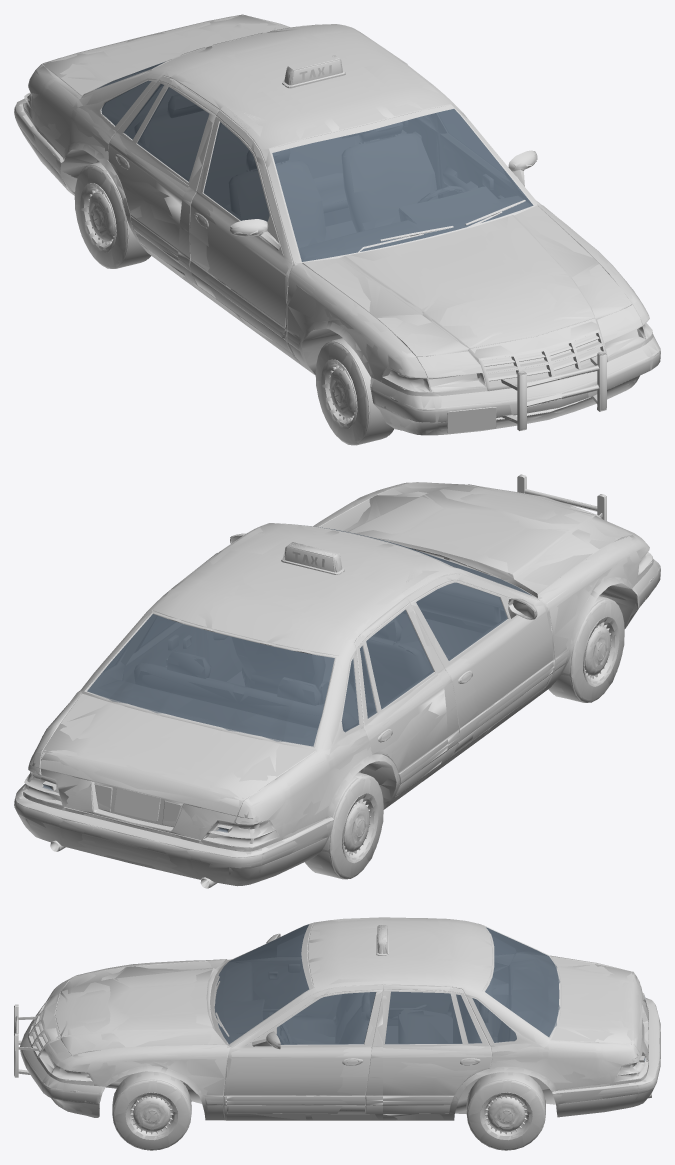
Rendered from taxi.fbx.
3 renders of one model, top to bottom at view 1: azimuth 30°, elevation 25°; view 2: azimuth 150°, elevation 25°; view 3: azimuth 270°, elevation 25°, orthographic. The views are drawn at different scales.
Parts seen in each view (by area): view 1: Body, LOD1_Body, LOD2_Body, Door_FR, LOD2_Door_FR, LOD1_Door_FR, Door_FL, Wheel_FR, LOD1_Door_FL, Wheel_RR, LOD1_Wheel_FR, LOD1_Wheel_RR (+3 smaller); view 2: Body, LOD2_Body, LOD1_Body, Door_FR, LOD2_Door_FR, LOD1_Door_FR, Wheel_RR, Wheel_FR, LOD1_Wheel_RR, LOD1_Wheel_FR; view 3: Body, LOD1_Body, LOD2_Body, Door_FL, LOD2_Door_FL, LOD1_Door_FL, Wheel_FL, Wheel_RL, LOD1_Wheel_RL, LOD1_Wheel_FL, LOD2_Wheel_RL, LOD2_Wheel_FL (+2 smaller).
Boxes of the visible parts, box(x1,y1,x2,y2) form: Body: box(14, 15, 660, 434); LOD1_Body: box(15, 14, 660, 435); LOD2_Body: box(15, 16, 657, 435); Door_FR: box(178, 106, 347, 363); LOD2_Door_FR: box(179, 110, 323, 353); LOD1_Door_FR: box(178, 110, 347, 365); Door_FL: box(403, 63, 540, 216); Wheel_FR: box(315, 338, 393, 445); LOD1_Door_FL: box(433, 109, 535, 216); Wheel_RR: box(74, 162, 150, 268); LOD1_Wheel_FR: box(316, 341, 392, 445); LOD1_Wheel_RR: box(75, 165, 150, 268); Body: box(14, 474, 660, 888); LOD2_Body: box(15, 475, 660, 884); LOD1_Body: box(14, 476, 660, 888); Door_FR: box(402, 558, 552, 773); LOD2_Door_FR: box(406, 562, 553, 775); LOD1_Door_FR: box(406, 560, 553, 754); Wheel_RR: box(305, 772, 383, 879); Wheel_FR: box(548, 596, 624, 702); LOD1_Wheel_RR: box(305, 775, 383, 879); LOD1_Wheel_FR: box(549, 599, 624, 702); Body: box(14, 917, 660, 1120); LOD1_Body: box(14, 917, 660, 1120); LOD2_Body: box(15, 918, 660, 1120); Door_FL: box(219, 981, 382, 1120); LOD2_Door_FL: box(225, 981, 382, 1120); LOD1_Door_FL: box(220, 982, 382, 1120); Wheel_FL: box(112, 1071, 191, 1150); Wheel_RL: box(466, 1072, 545, 1150); LOD1_Wheel_RL: box(467, 1072, 545, 1150); LOD1_Wheel_FL: box(112, 1072, 191, 1150); LOD2_Wheel_RL: box(468, 1080, 545, 1140); LOD2_Wheel_FL: box(113, 1080, 191, 1140).
Size of the model in its own units: 2.03 by 1.48 by 5.05.
